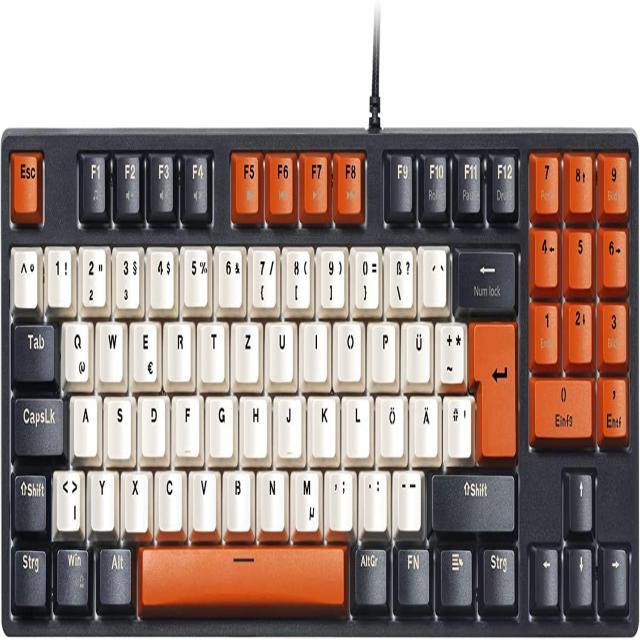0: (351, 242, 381, 310)
1: (45, 241, 72, 305)
2: (79, 241, 106, 308)
3: (112, 241, 141, 309)
4: (148, 242, 175, 308)
5: (181, 241, 209, 306)
6: (216, 241, 244, 306)
7: (250, 242, 278, 309)
8: (282, 242, 311, 310)
9: (317, 242, 346, 308)
a: (70, 389, 97, 454)
accent: (420, 240, 447, 305)
ae: (410, 389, 439, 456)
alt-left: (98, 544, 131, 604)
altgr-right: (353, 543, 387, 604)
b: (223, 464, 252, 529)
c: (154, 464, 183, 528)
caret: (11, 242, 39, 307)
comma: (323, 464, 353, 528)
d: (138, 389, 166, 454)
del: (456, 245, 515, 309)
e: (130, 315, 158, 381)
enter: (470, 315, 517, 459)
f: (172, 389, 199, 453)
g: (206, 389, 234, 455)
h: (240, 389, 267, 456)
hash: (443, 389, 472, 456)
i: (300, 316, 328, 379)
j: (274, 389, 301, 455)
k: (308, 389, 336, 456)
keyboard: (2, 122, 638, 633)
l: (342, 389, 370, 455)
less: (52, 464, 82, 529)
m: (290, 464, 320, 530)
minus: (391, 464, 422, 528)
n: (256, 464, 285, 529)
o: (333, 315, 362, 379)
oe: (376, 389, 404, 456)
p: (369, 316, 397, 380)
plus: (435, 316, 465, 382)
point: (359, 465, 388, 528)
q: (61, 316, 91, 382)
r: (164, 316, 191, 380)
s: (104, 390, 132, 456)
shift-left: (12, 469, 47, 531)
shift-lock: (12, 393, 64, 456)
shift-right: (429, 469, 515, 530)
space: (136, 542, 347, 607)
ss: (386, 242, 414, 309)
strg-left: (11, 544, 47, 607)
strg-right: (480, 543, 516, 606)
t: (197, 316, 225, 380)
tab: (10, 318, 55, 381)
u: (266, 316, 294, 380)
ue: (402, 316, 430, 381)
v: (188, 465, 217, 528)
w: (96, 316, 124, 380)
x: (121, 465, 149, 529)
y: (87, 465, 114, 528)
z: (232, 316, 260, 380)
